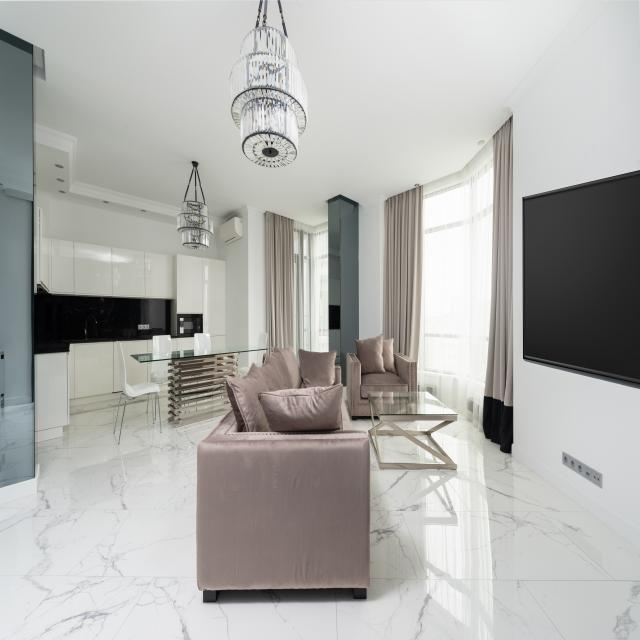floor: (0, 389, 640, 640), (377, 435, 447, 464), (343, 387, 373, 440), (411, 435, 447, 458), (389, 421, 445, 431), (377, 425, 396, 431), (371, 435, 377, 451)
wall: (511, 0, 640, 552), (50, 198, 220, 259), (50, 238, 174, 300), (217, 213, 249, 345), (177, 254, 226, 335), (340, 194, 359, 386), (34, 352, 69, 443), (69, 341, 123, 399), (359, 203, 381, 340), (248, 213, 267, 347), (120, 340, 152, 386), (328, 194, 341, 305), (41, 208, 50, 293), (380, 201, 385, 335), (171, 254, 177, 337), (329, 330, 340, 366), (171, 337, 194, 352), (237, 352, 249, 371), (210, 334, 226, 348), (248, 351, 257, 367)
